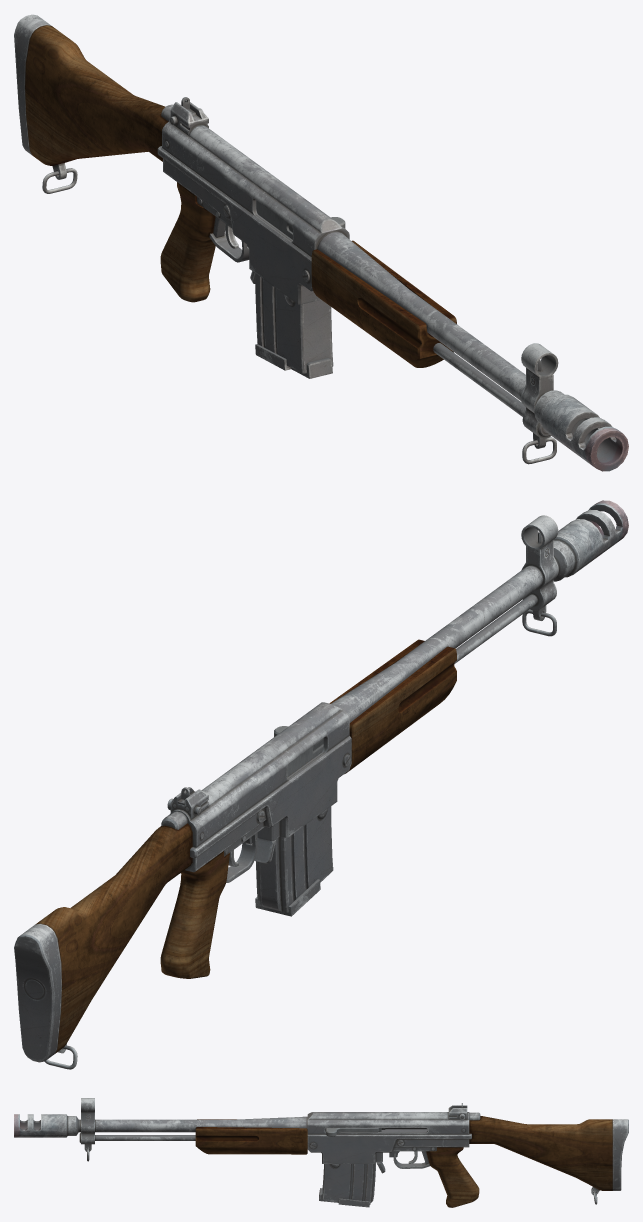
Rendered from heavy_rifle.obj.
The picture shows the model from 3 angles, top to bottom: view 1: azimuth 30°, elevation 25°; view 2: azimuth 150°, elevation 25°; view 3: azimuth 270°, elevation 25°; orthographic projection. The views are drawn at different scales.
Parts seen in each view (by area): view 1: obj1, obj6; view 2: obj1, obj6; view 3: obj1, obj6, obj5.
Boxes of the visible parts, left/top/right/bottom form: obj1: left=14, top=14, right=628, bottom=471; obj6: left=255, top=273, right=333, bottom=378; obj1: left=14, top=500, right=628, bottom=1069; obj6: left=255, top=806, right=333, bottom=916; obj1: left=14, top=1098, right=628, bottom=1207; obj6: left=319, top=1162, right=375, bottom=1207; obj5: left=325, top=1128, right=385, bottom=1136.
Bounding box in the file's own units: 8.3 × 29.04 × 151.
1 material, 1 textured.
